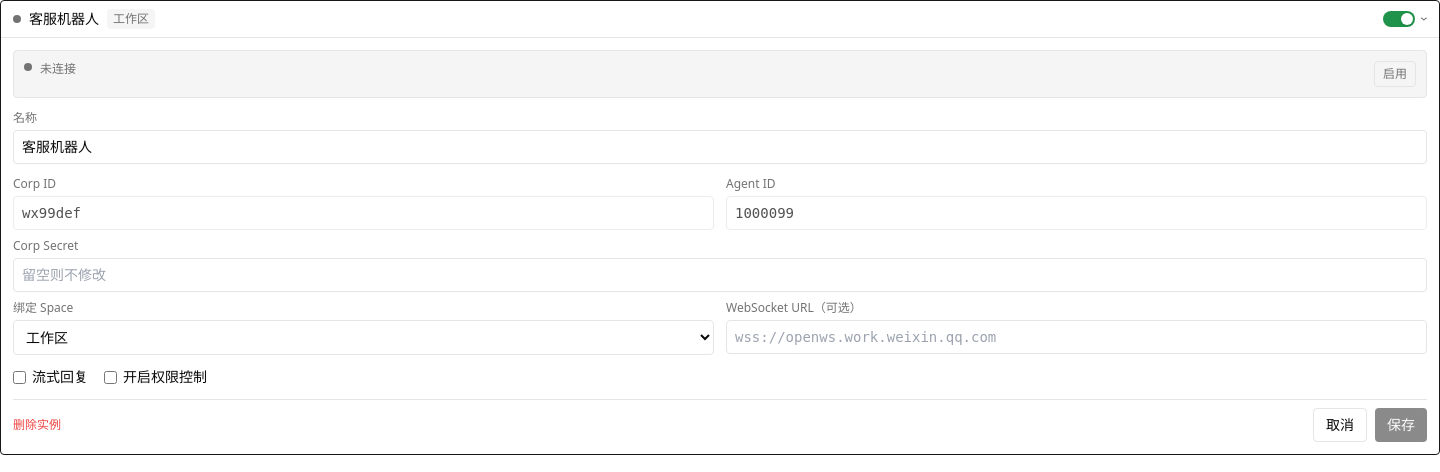
Scenario: ImChannelAccordionRow › save button enables after changing name
Replace the text in the field with placeholder "我的企微机器人" below "名称" with "新名称" at (720, 147), box [13,130,1427,164]
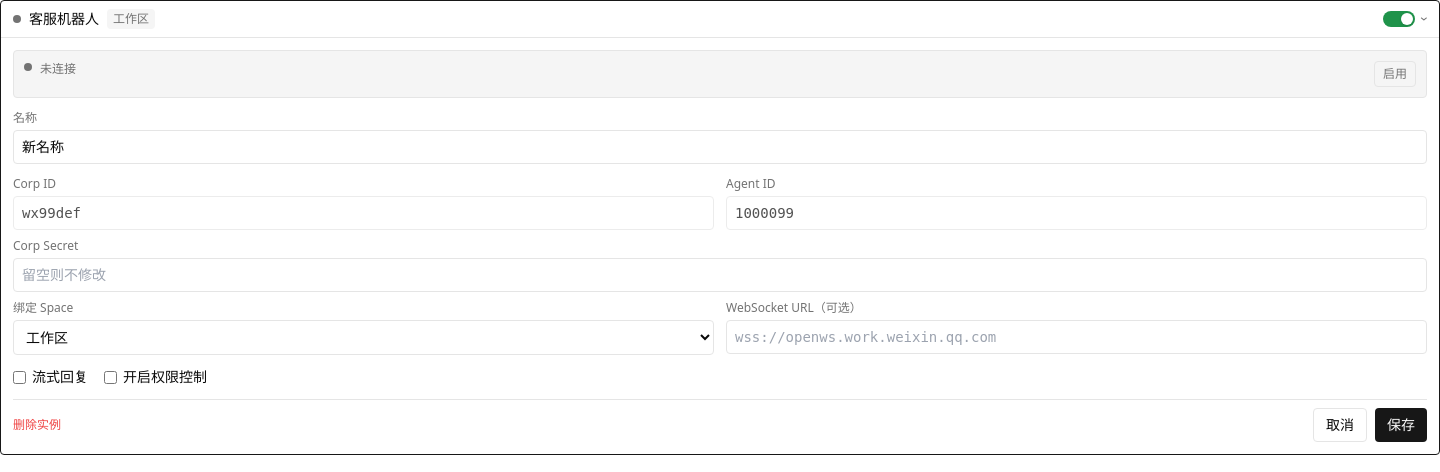
expect the button "保存" is enabled: met, box [1375,408,1427,442]
